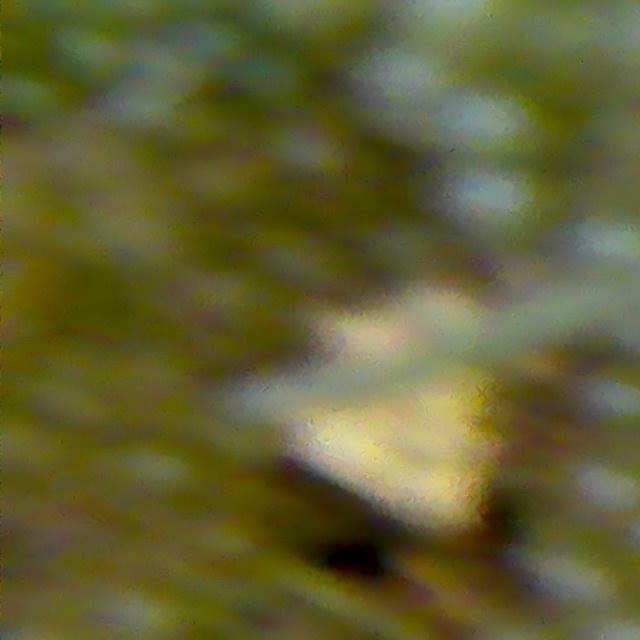SeaGrape: (451, 79, 551, 168), (533, 0, 616, 87), (365, 41, 451, 117), (450, 175, 529, 246), (574, 208, 640, 275)
